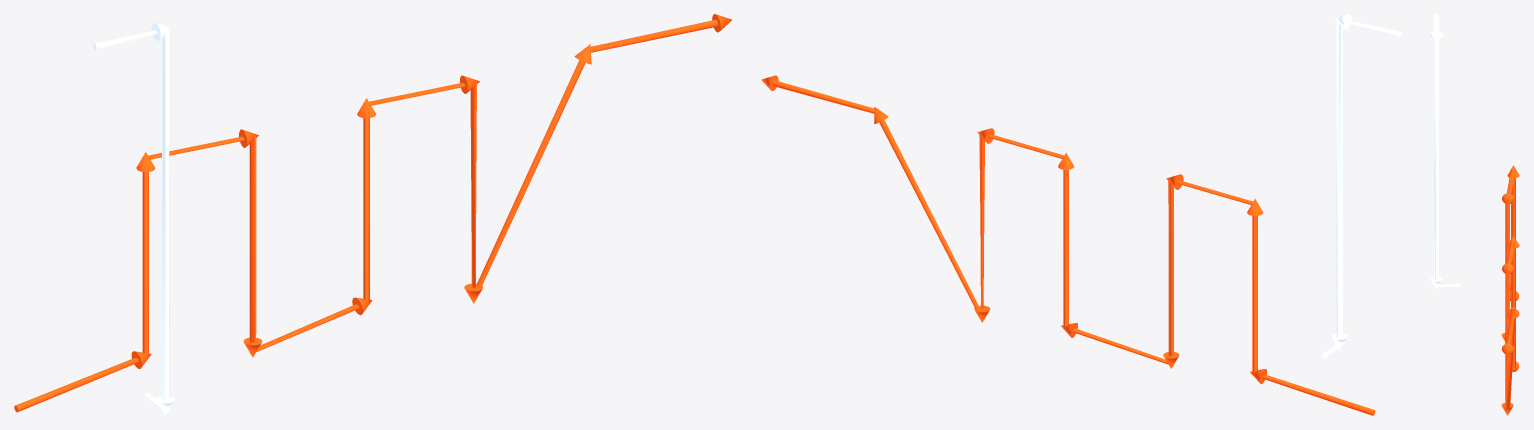
Rendered from digestion_autoclave_flow.glb.
3 views of the same model, side by side, from view 1: azimuth 30°, elevation 25°; view 2: azimuth 150°, elevation 25°; view 3: azimuth 270°, elevation 25° (orthographic). The views are drawn at different scales.
Visible parts, largest first — view 1: slurry, live_steam; view 2: slurry, live_steam; view 3: slurry, live_steam.
Part boxes in pixels (left/top/right/bottom): slurry: left=14, top=14, right=732, bottom=412; live_steam: left=93, top=23, right=174, bottom=415; slurry: left=761, top=75, right=1375, bottom=415; live_steam: left=1321, top=14, right=1401, bottom=358; slurry: left=1501, top=165, right=1519, bottom=415; live_steam: left=1430, top=14, right=1460, bottom=289.
Size of the model in its own units: 4.54 by 2.49 by 0.754.
